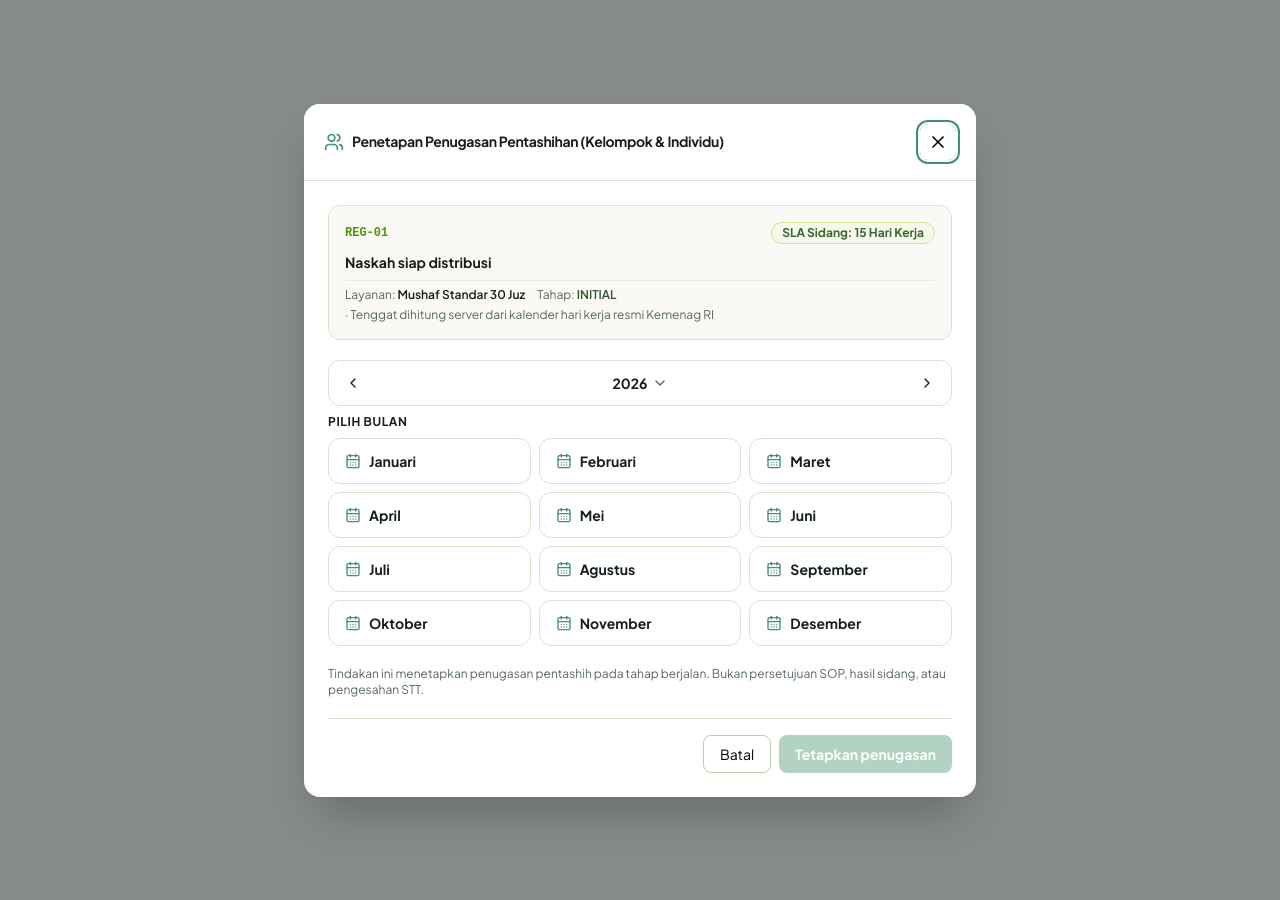
Test: Manual team assignment (B-05) › automatically checks all active team members upon team selection and allows unchecking absent members
Later steps or results of the test are not shown.
Expected: the text "Naskah siap distribusi" is shown, x1=345 y1=252 x2=492 y2=270
Click the button "Januari".
click(429, 460)  # box x1=328 y1=438 x2=531 y2=484
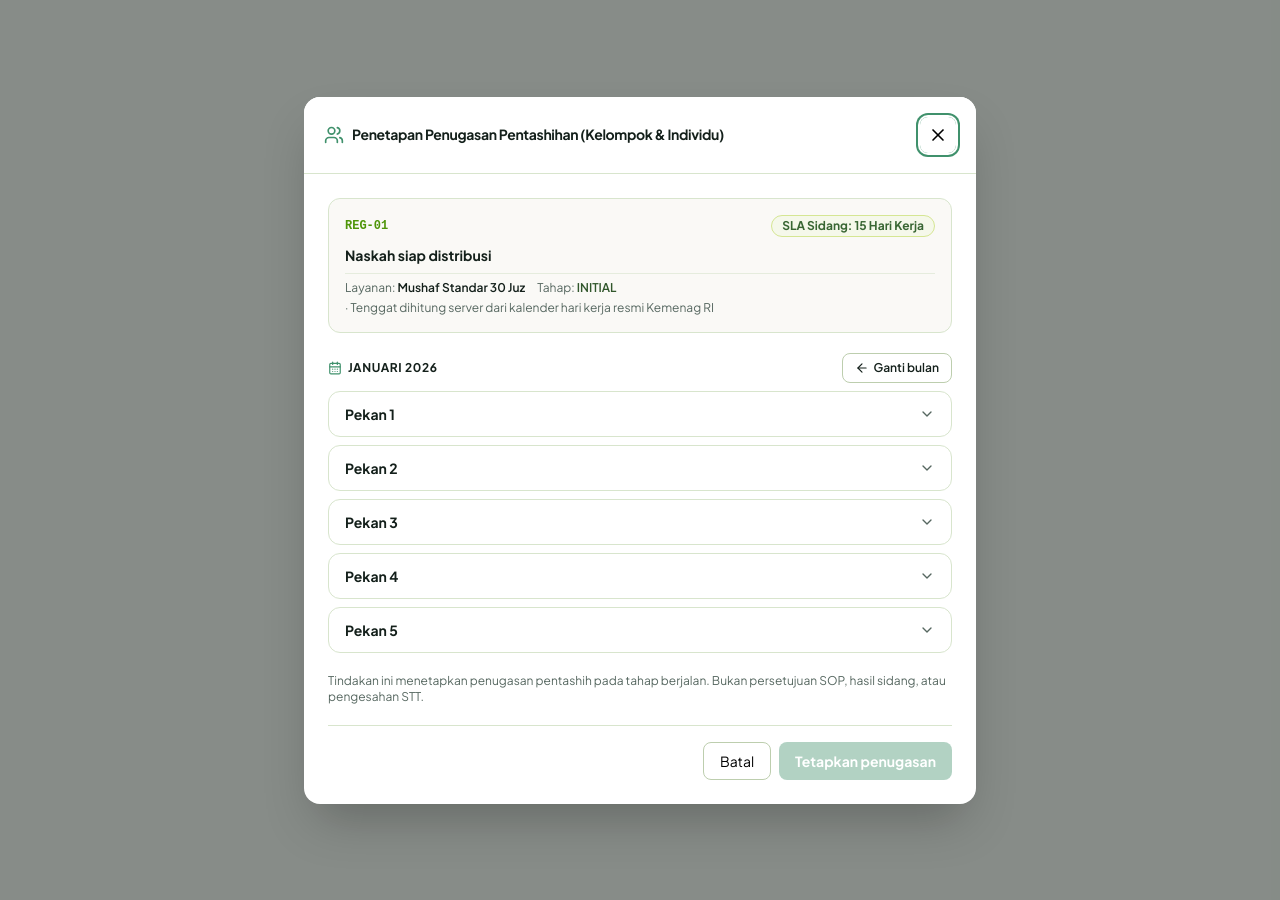
Click the button "Pekan 1".
click(367, 414)  # box x1=329 y1=392 x2=951 y2=436
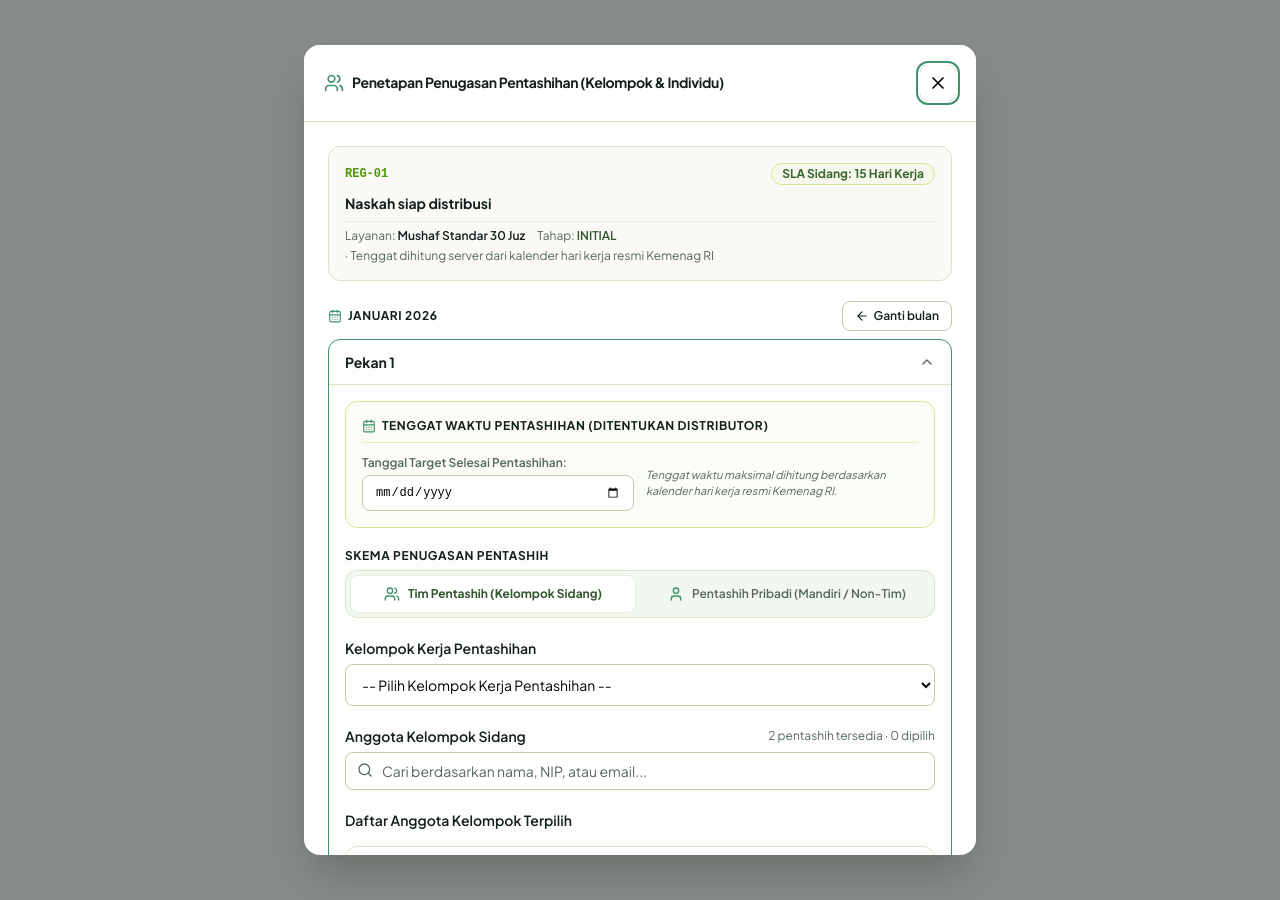
Select "Kelompok Reguler · NOMOR-01" in the dropdown labelled "Kelompok Kerja Pentashihan" at (640, 685), box x1=345 y1=664 x2=935 y2=706
(page scrolled)
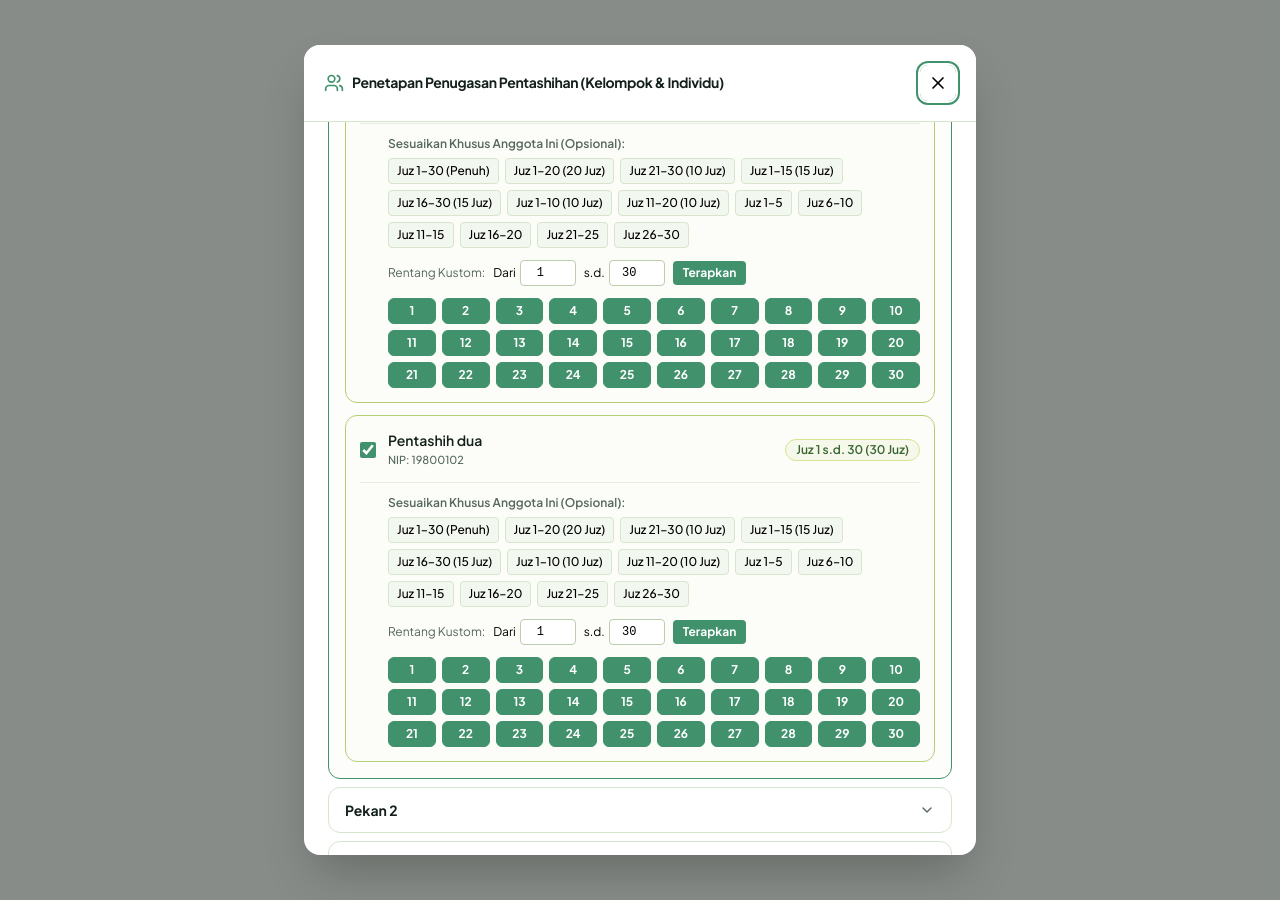
Expected: the checkbox labelled "Pentashih satu" is checked, x1=360 y1=83 x2=376 y2=99
Now the checkbox labelled "Pentashih dua" is checked
# Hapus centang pentashih dua (karena tidak hadir)
Click the checkbox labelled "Pentashih dua".
click(368, 450)  # box x1=360 y1=442 x2=376 y2=458
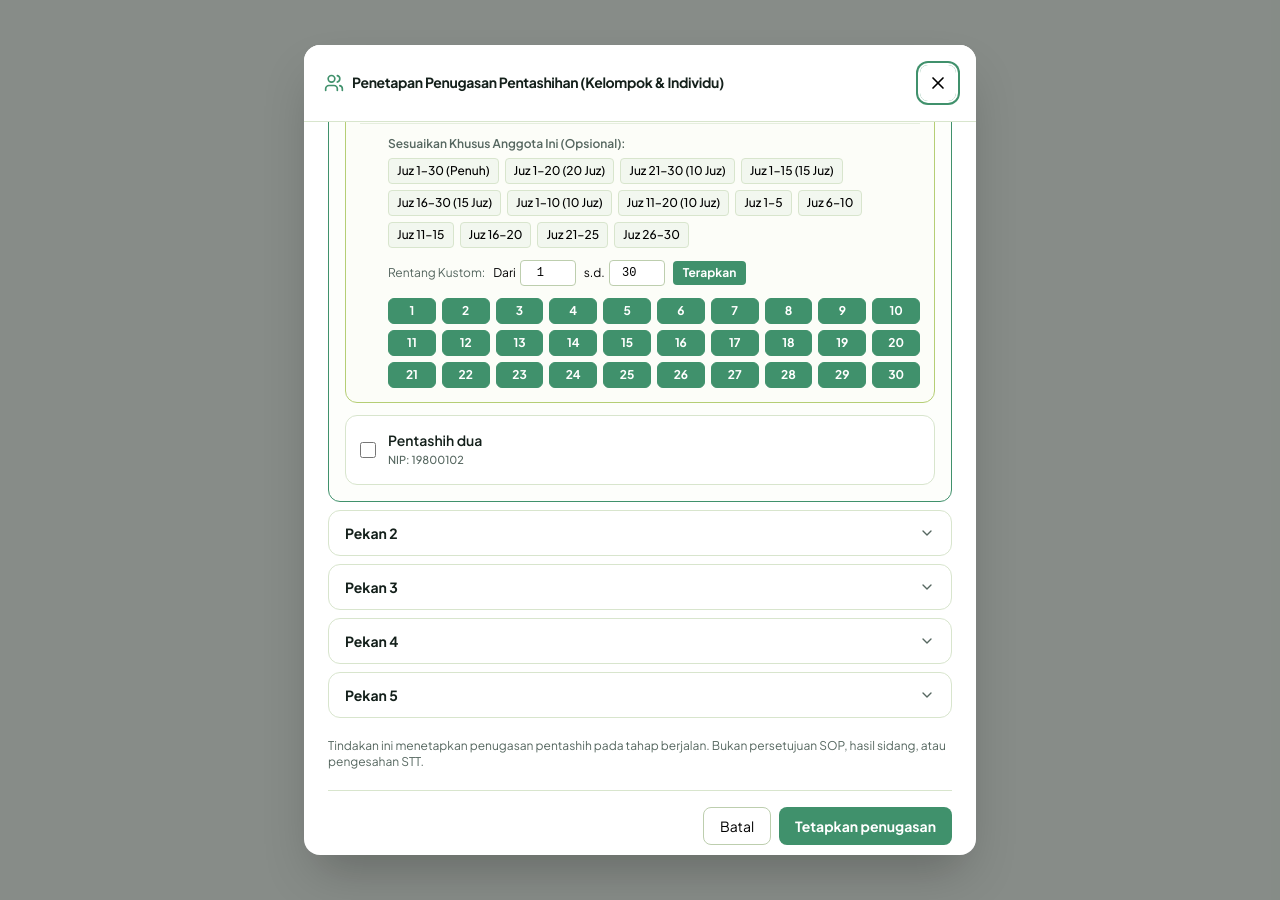
Now the checkbox labelled "Pentashih dua" is not checked, box x1=360 y1=442 x2=376 y2=458
Now the button "Tetapkan penugasan" is enabled, box x1=779 y1=807 x2=952 y2=845
